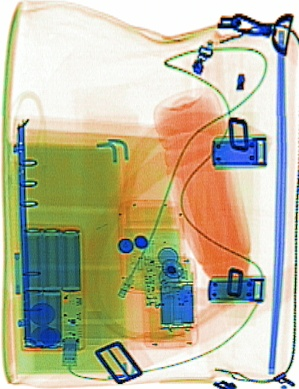powerbank: (18, 221, 87, 351), (156, 267, 195, 329)
